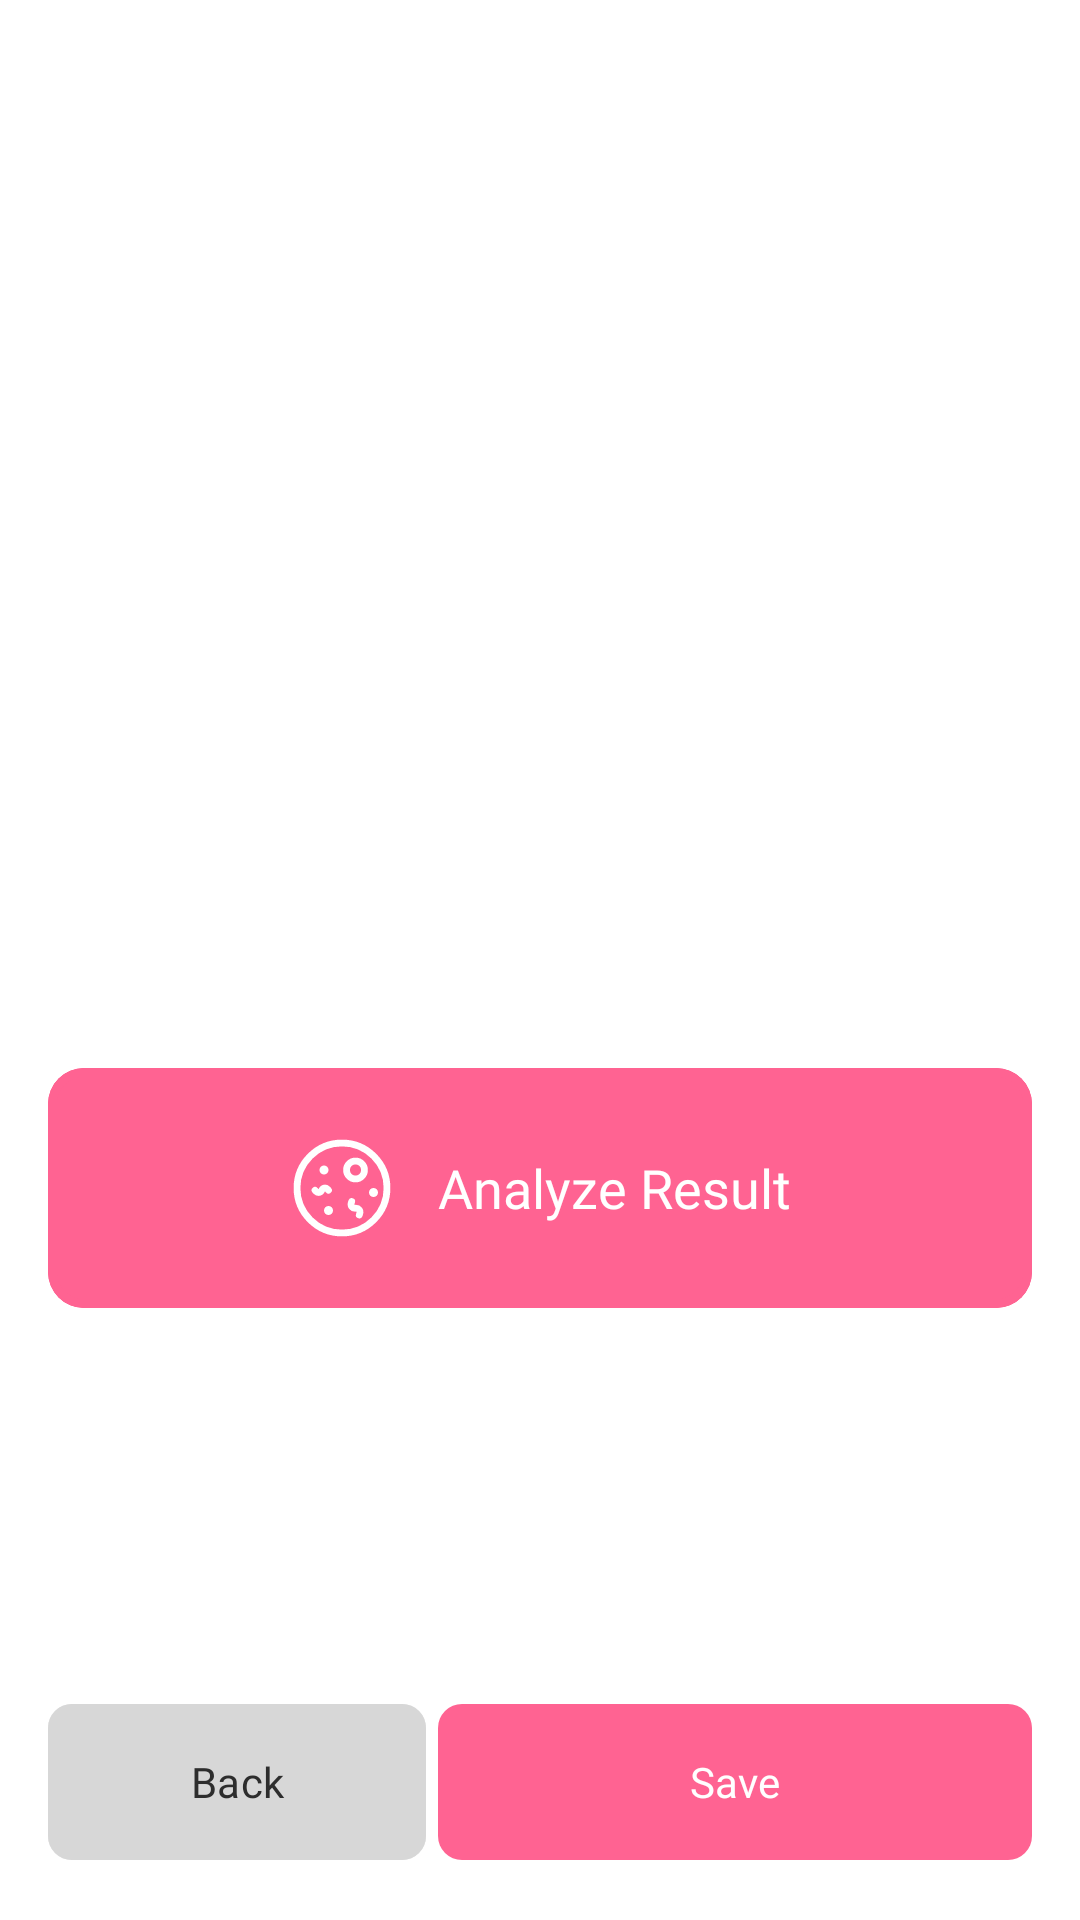

Icons on this 1080 x 1920 Android screen, each with the point to tap as point (x, y):
bacteria stroke rounded: point (342, 1188)
